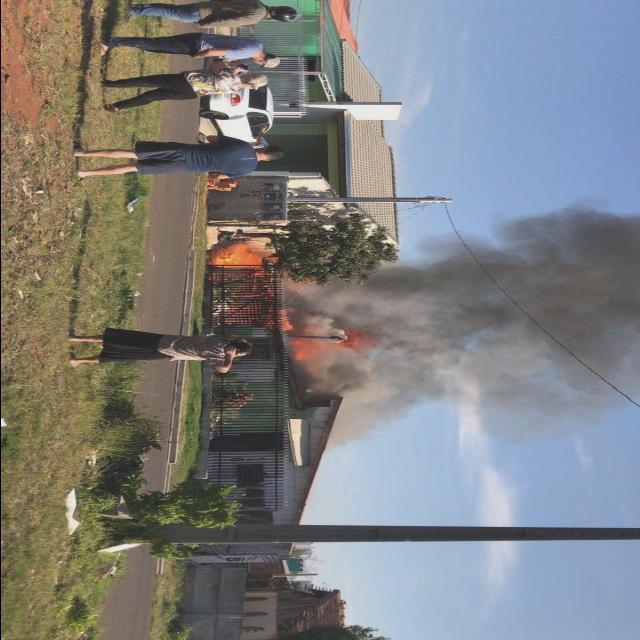Fire: (213, 249, 263, 267), (281, 307, 296, 331)
